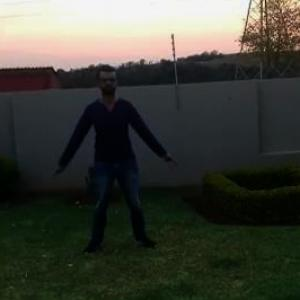land: (40, 56, 172, 278)
